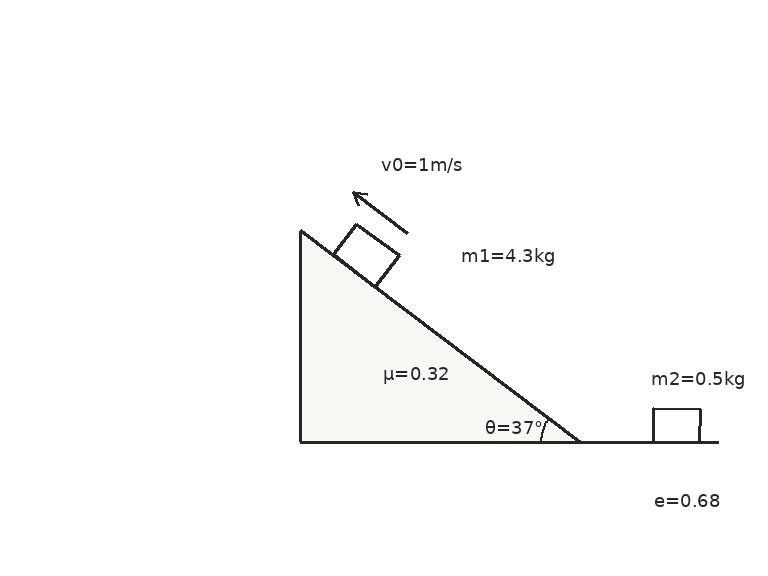block: (330, 221, 401, 289), (651, 406, 701, 444)
ramp: (298, 228, 583, 444)
